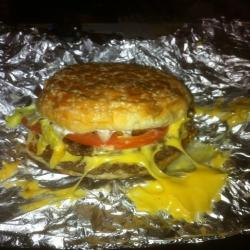burger: (13, 56, 200, 195)
